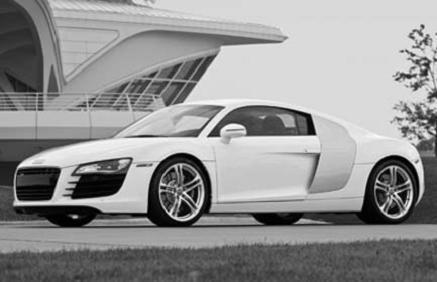car: (11, 99, 427, 229)
